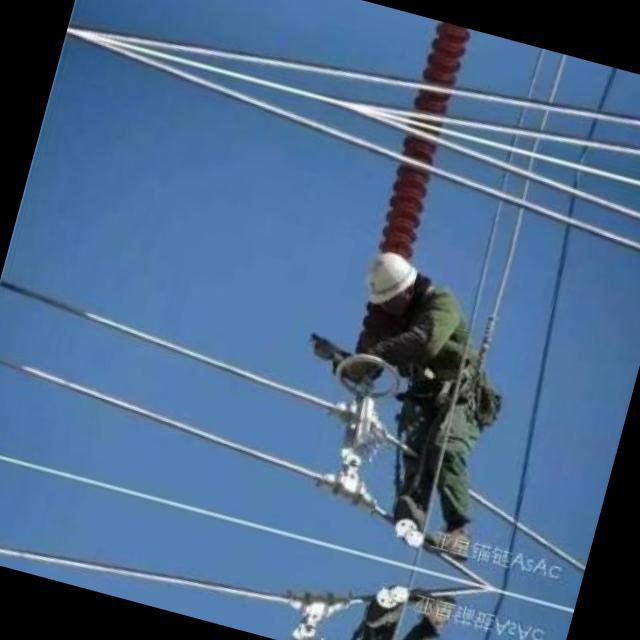helmet: (354, 241, 432, 323)
